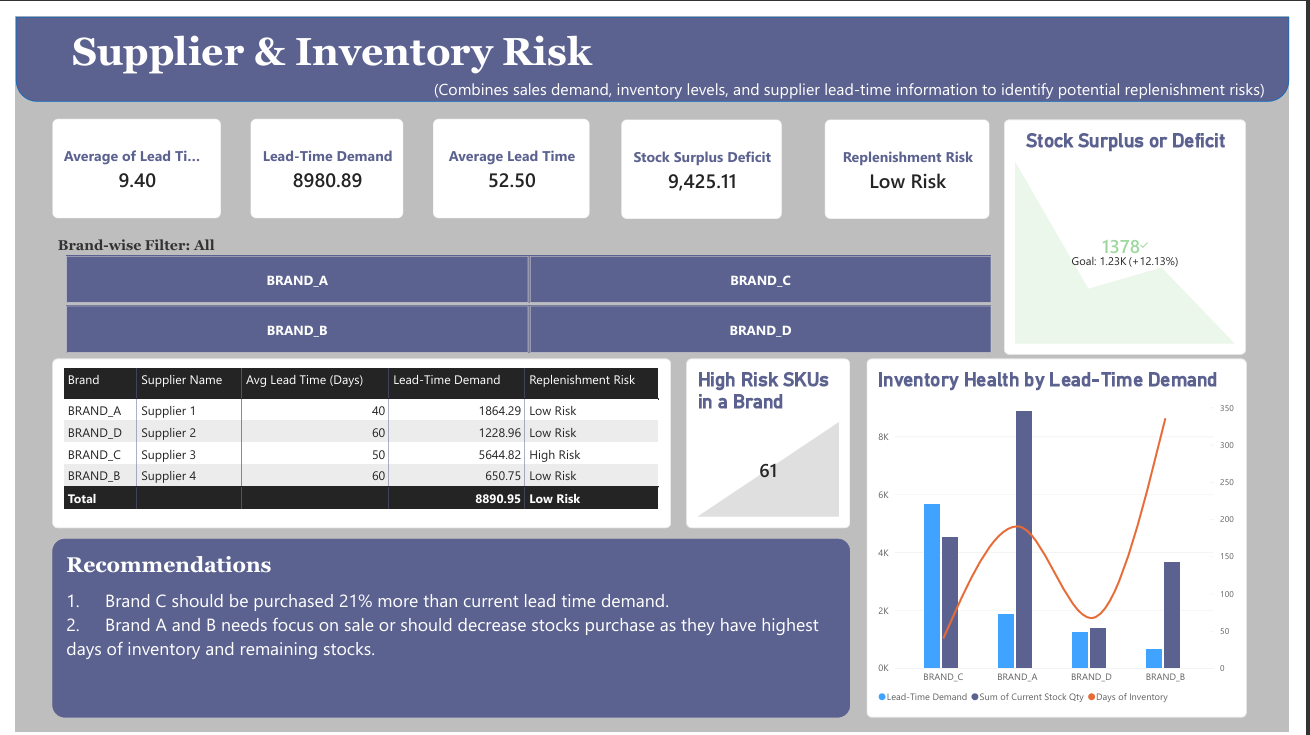

The page's visual inventory and layout, read from the dashboard file:
{"tool":"powerbi","page":{"name":"Page 4","canvas":[1920,1080],"ordinal":3},"visuals":[{"type":"shape","box":[0,0,1920,127.5],"z":0},{"type":"textbox","box":[84,18.2,810,87.5],"z":1000},{"type":"cardVisual","fields":{"Data":["Avg(supplier.Avg Lead Time (Days))"]},"box":[629.2,154.4,236.2,149.9],"z":2000},{"type":"tableEx","fields":{"Values":["supplier.Brand","supplier.Supplier Name","supplier.Avg Lead Time (Days)","supplier.Lead-Time Demand","supplier.Stock Surplus Deficit"]},"box":[54.5,515.6,906.3,256.7],"z":3000},{"type":"cardVisual","fields":{"Data":["Avg(supplier.Lead Time Std Dev (Days))"]},"box":[54.5,154.4,254.4,149.9],"z":4000},{"type":"cardVisual","fields":{"Data":["supplier.Lead-Time Demand"]},"box":[354.3,154.4,229.4,149.9],"z":5000},{"type":"lineClusteredColumnComboChart","title":"Inventory Health by Lead-Time Demand","fields":{"Category":["supplier.Brand"],"Y":["supplier.Lead-Time Demand","Sum(current_stocks.Current Stock Qty)"],"Y2":["current_stocks.Days of Inventory"]},"box":[1283.3,515.6,572.4,542.8],"z":6000},{"type":"kpi","title":"Stock Surplus or Deficit","fields":{"Indicator":["Sum(current_stocks.Current Stock Qty)"],"Goal":["supplier.Lead-Time Demand"],"TrendLine":["supplier.Brand"]},"box":[1490,155,365,355],"z":7000},{"type":"cardVisual","fields":{"Data":["supplier.Stock Surplus Deficit"]},"box":[912.5,155,242.5,150],"z":8000},{"type":"cardVisual","fields":{"Data":["supplier.Replenishment Risk"]},"box":[1220,155,247.5,150],"z":9000},{"type":"kpi","title":"High Risk SKUs in a Brand","fields":{"Indicator":["supplier.High Risk SKUs"],"TrendLine":["supplier.Brand"]},"box":[978.9,515.6,279.4,256.7],"z":10000},{"type":"slicer","fields":{"Values":["supplier.Brand"]},"box":[54.5,331.6,1435.5,177.2],"z":11000},{"type":"textbox","title":"Recommendations","box":[54.5,788.1,1203.8,270.3],"z":12000},{"type":"textbox","box":[630,92,1266,36],"z":13000}]}

Visuals, with their boxes in screenshot pixels (x1, y1, x2, y2), scaled from the page's 1920x1080 canvas onto the 1310x735 screenshot:
shape: (x1=0, y1=0, x2=1309, y2=87)
textbox: (x1=57, y1=12, x2=610, y2=72)
cardVisual - Avg(supplier.Avg Lead Time (Days)): (x1=429, y1=105, x2=590, y2=207)
tableEx - supplier.Brand x supplier.Supplier Name: (x1=37, y1=351, x2=656, y2=526)
cardVisual - Avg(supplier.Lead Time Std Dev (Days)): (x1=37, y1=105, x2=211, y2=207)
cardVisual - supplier.Lead-Time Demand: (x1=242, y1=105, x2=398, y2=207)
"Inventory Health by Lead-Time Demand" lineClusteredColumnComboChart: (x1=876, y1=351, x2=1266, y2=720)
"Stock Surplus or Deficit" kpi: (x1=1017, y1=105, x2=1266, y2=347)
cardVisual - supplier.Stock Surplus Deficit: (x1=623, y1=105, x2=788, y2=208)
cardVisual - supplier.Replenishment Risk: (x1=832, y1=105, x2=1001, y2=208)
"High Risk SKUs in a Brand" kpi: (x1=668, y1=351, x2=859, y2=526)
slicer - supplier.Brand: (x1=37, y1=226, x2=1017, y2=346)
"Recommendations" textbox: (x1=37, y1=536, x2=859, y2=720)
textbox: (x1=430, y1=63, x2=1294, y2=87)
